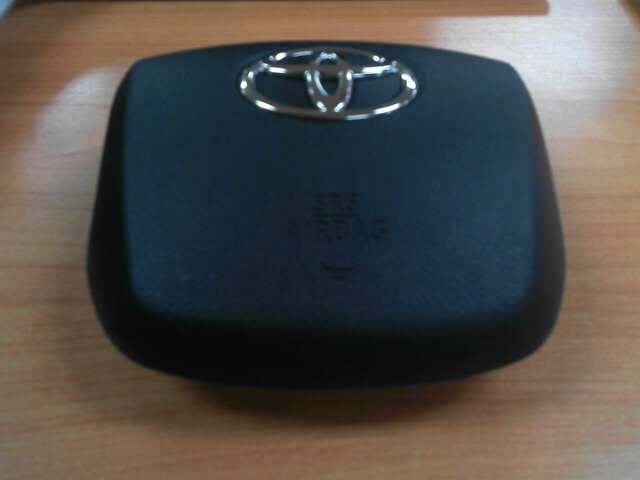Airbag: (86, 40, 567, 390)
